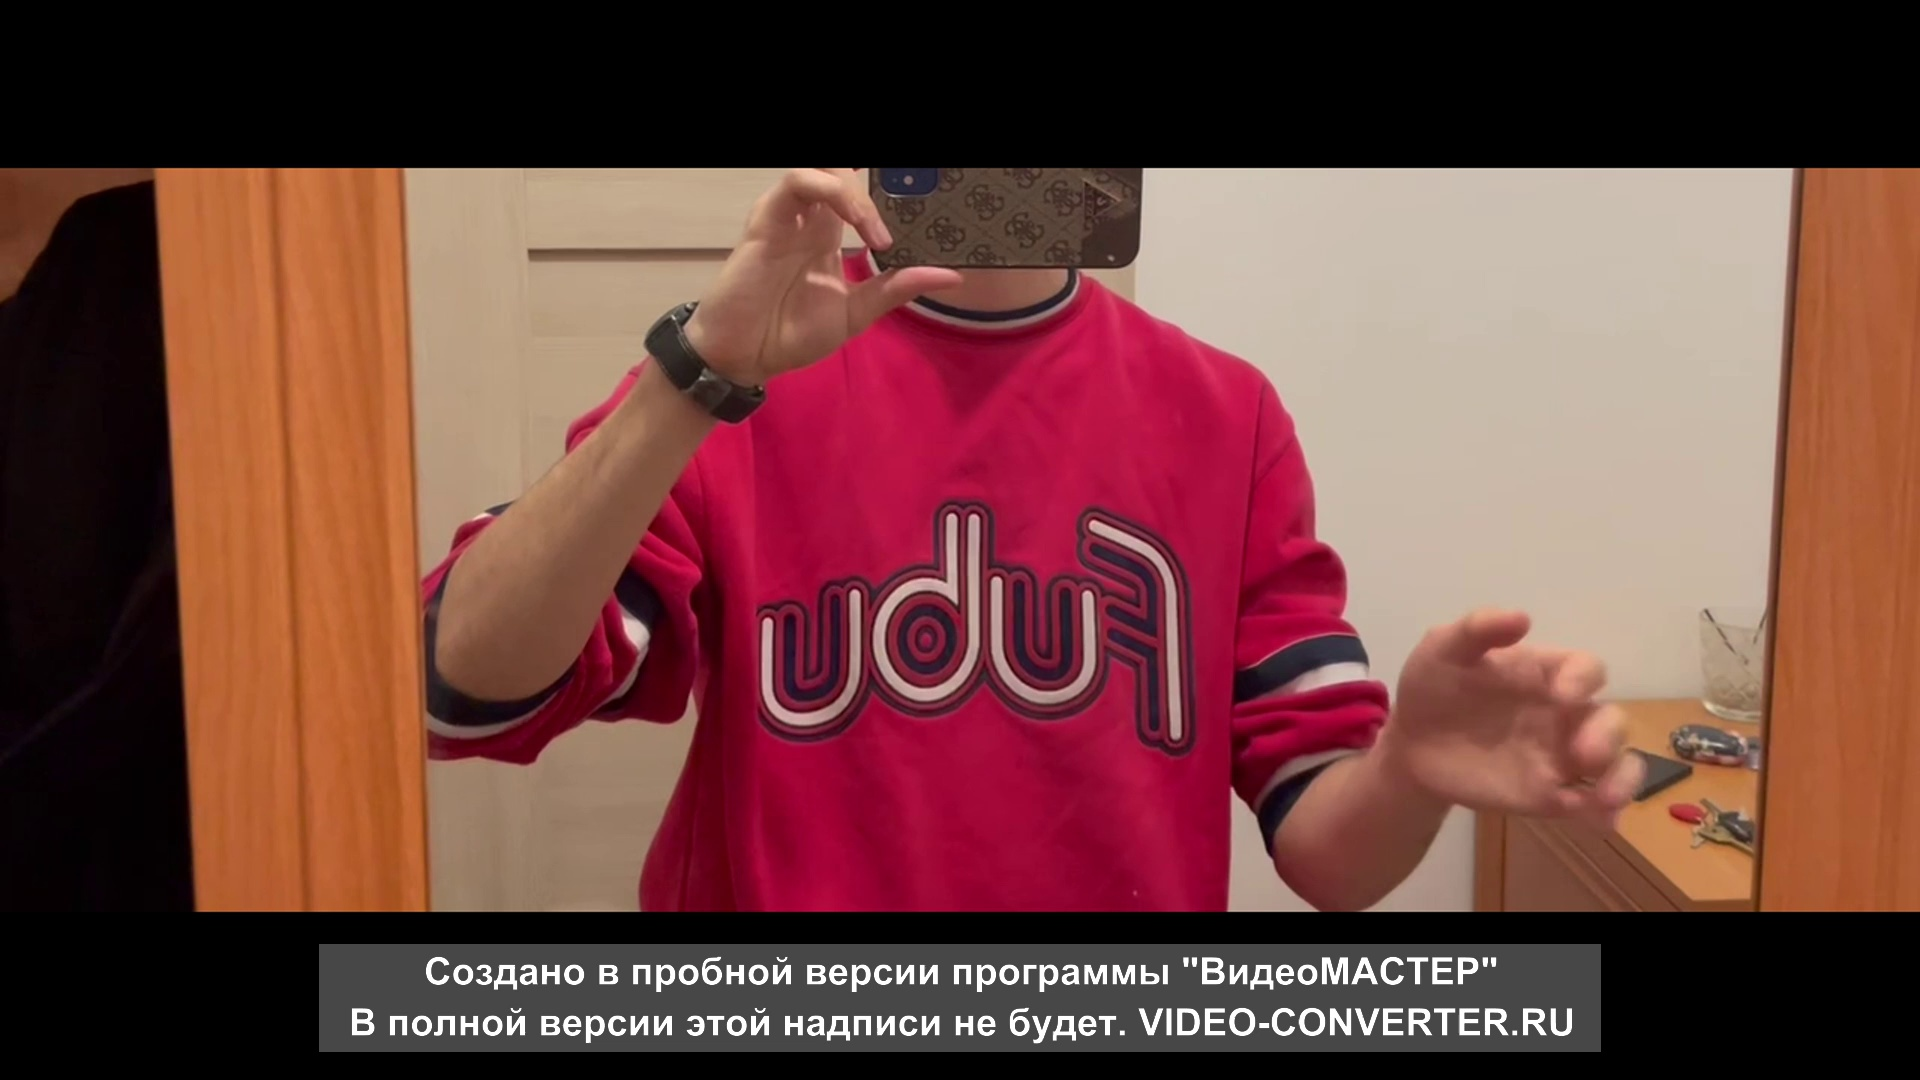Ладонь: (1395, 612, 1646, 823)
